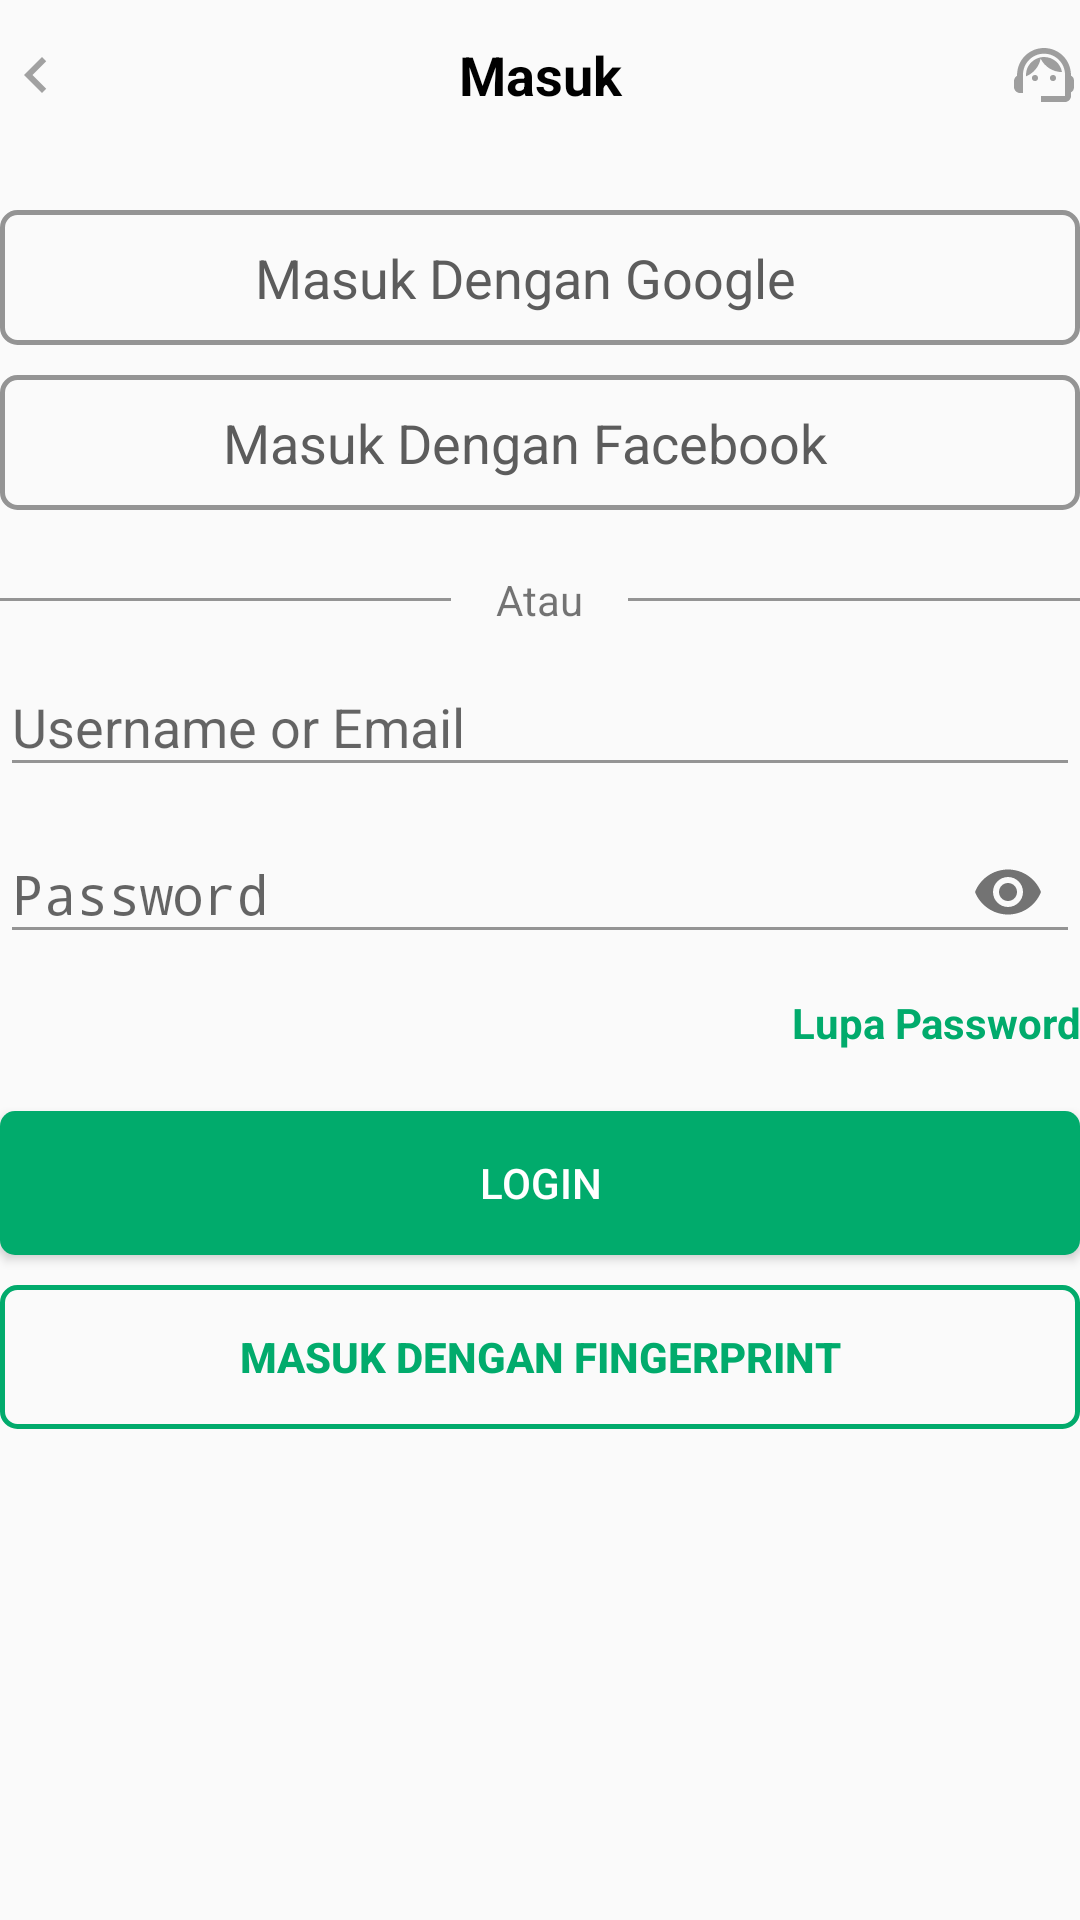

Locate icon controls on the screen. Image size 1080*1920, boxes as (x1, y1, x2, y2).
chevron left: (24, 57, 46, 93)
support agent: (1014, 48, 1074, 102)
